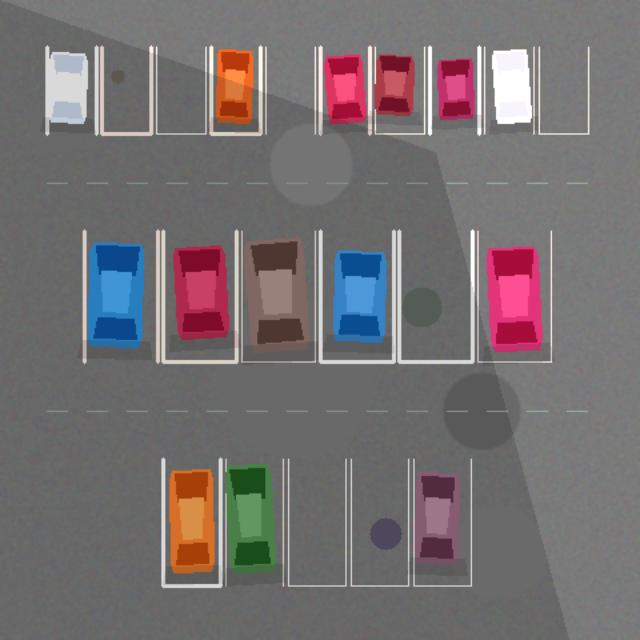space-empty: (399, 231, 472, 361), (288, 459, 345, 585), (351, 459, 408, 585), (101, 47, 151, 133), (265, 47, 315, 133), (156, 47, 205, 133), (539, 47, 588, 133)
space-occupied: (241, 231, 315, 361), (477, 231, 551, 361), (84, 231, 157, 361), (163, 231, 236, 361), (320, 231, 393, 361), (225, 459, 283, 585), (413, 459, 471, 585), (163, 459, 220, 585), (429, 47, 479, 133), (47, 47, 96, 133), (211, 47, 260, 133), (320, 47, 369, 133), (375, 47, 424, 133), (484, 47, 533, 133)
